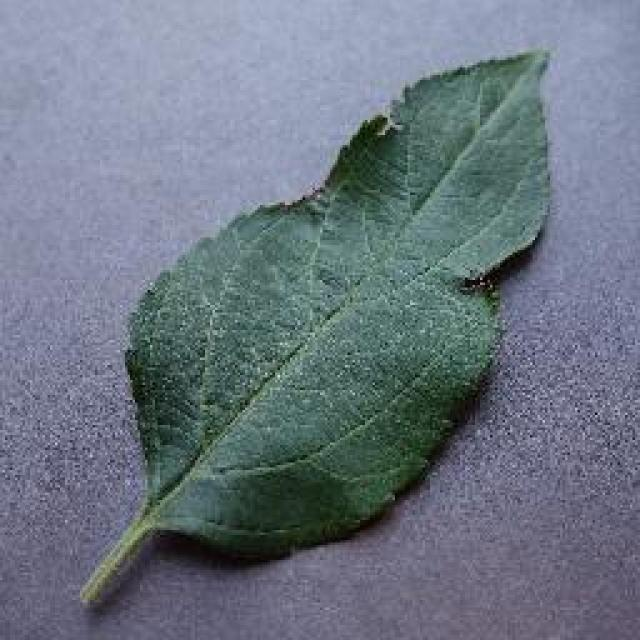apple healthy: (75, 45, 555, 607)
